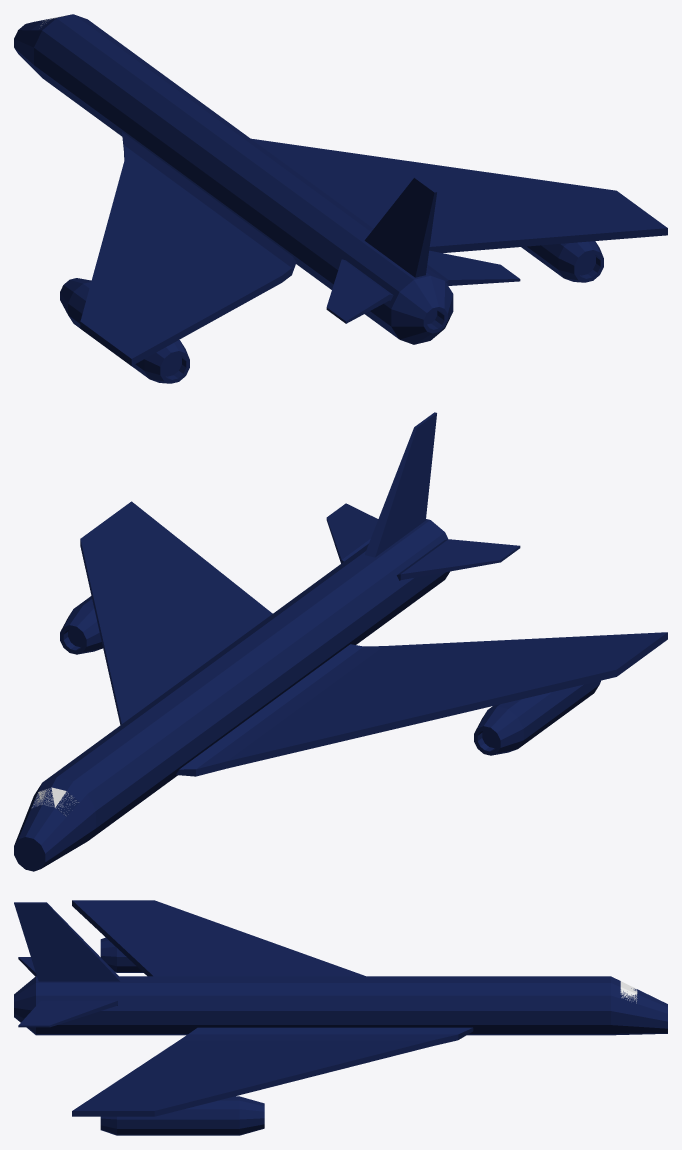
Rendered from airplane.glb.
The picture shows the model from 3 angles, top to bottom: view 1: azimuth 30°, elevation 25°; view 2: azimuth 150°, elevation 25°; view 3: azimuth 270°, elevation 25°; orthographic projection. The views are drawn at different scales.
Visible parts, largest first — view 1: airplane; view 2: airplane; view 3: airplane.
Boxes of the visible parts, x1=… form: airplane: x1=14, y1=14, x2=667, y2=383; airplane: x1=14, y1=412, x2=667, y2=871; airplane: x1=14, y1=900, x2=667, y2=1135.
Size of the model in its own units: 49.96 by 16.51 by 65.53.
